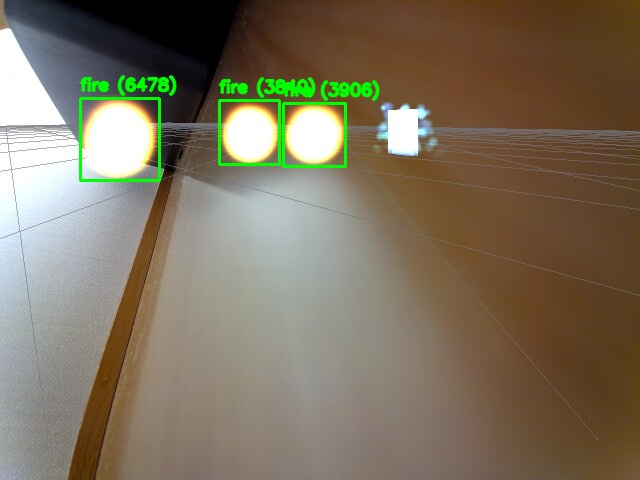fire: (80, 98, 159, 180), (283, 103, 345, 166), (219, 100, 279, 164)
